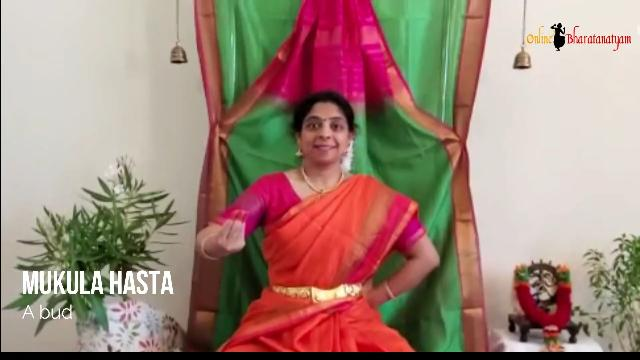mukul: (182, 199, 266, 283)
